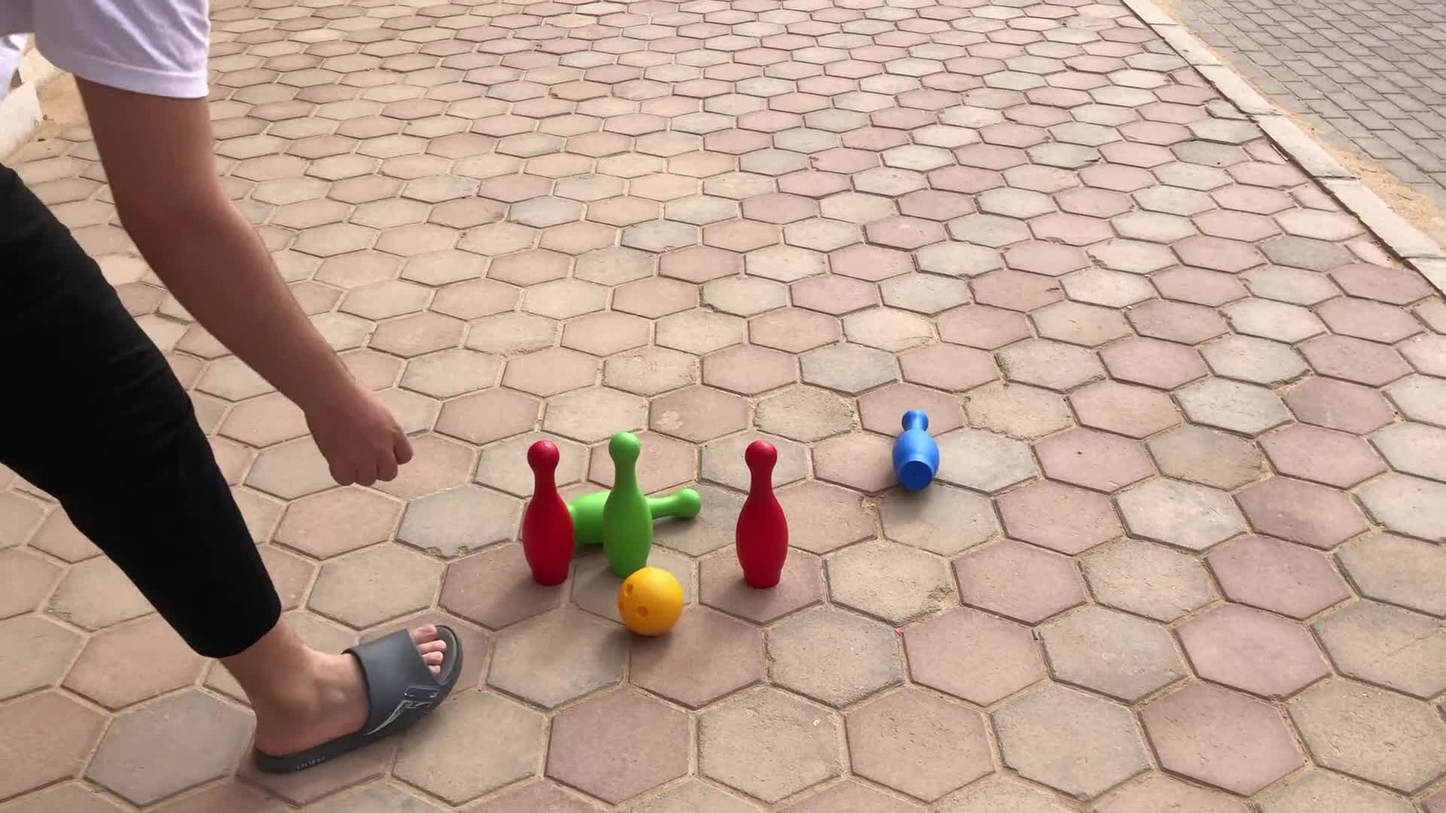bowling-pin: (737, 440, 789, 589), (602, 435, 654, 576), (523, 439, 573, 583), (894, 410, 939, 495), (569, 492, 609, 549)
